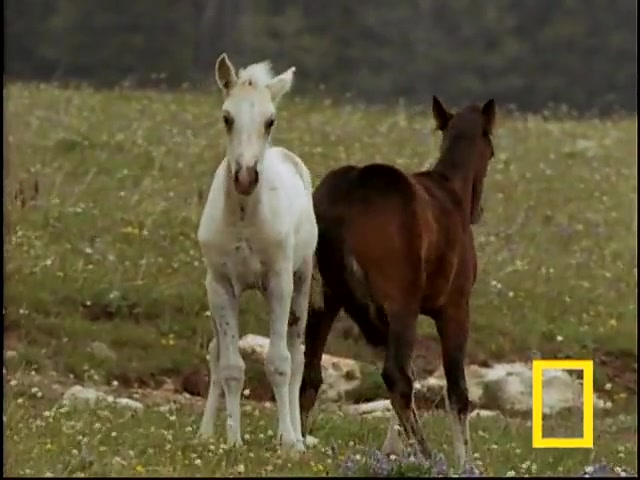horse: (192, 53, 322, 460)
